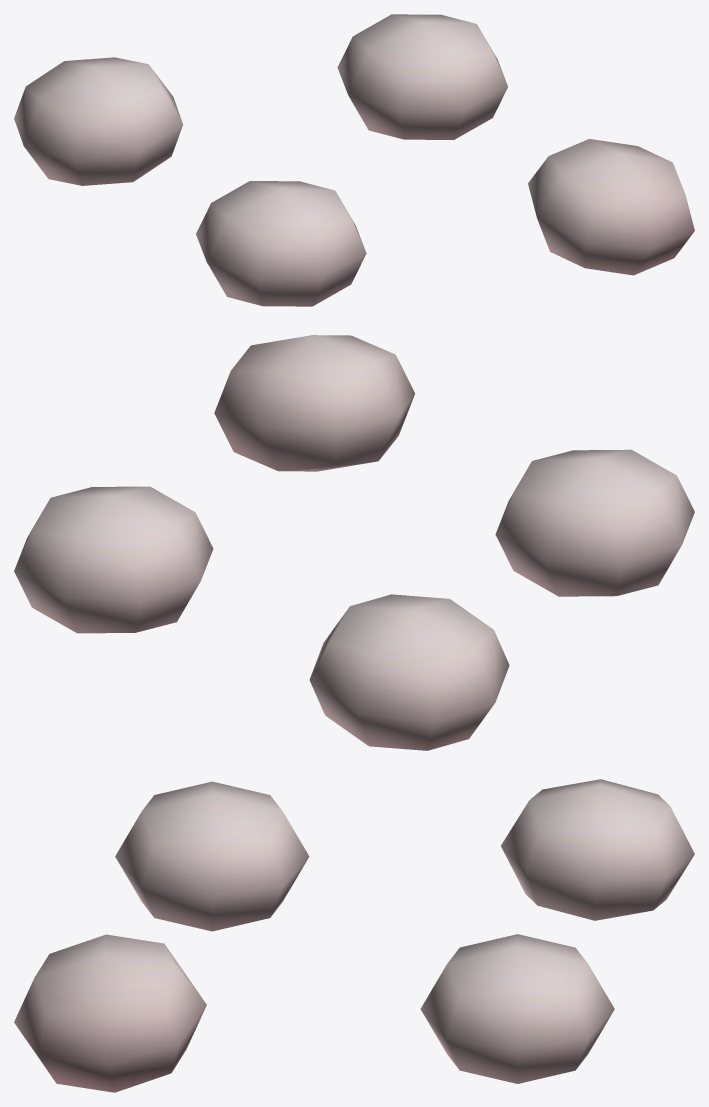
The model's file is garlic_seed.glb.
3 views of the same model, one above another, from view 1: azimuth 30°, elevation 25°; view 2: azimuth 150°, elevation 25°; view 3: azimuth 270°, elevation 25° (orthographic). The views are drawn at different scales.
Visible parts, largest first — view 1: SM_Garlic_Seed2; view 2: SM_Garlic_Seed2; view 3: SM_Garlic_Seed2.
Boxes of the visible parts, <box> form: SM_Garlic_Seed2: <box>14,14,694,306</box>; SM_Garlic_Seed2: <box>14,335,694,750</box>; SM_Garlic_Seed2: <box>14,779,694,1092</box>.
Size of the model in its own units: 0.1603 by 0.0379 by 0.1881.
1 material, 1 textured.
